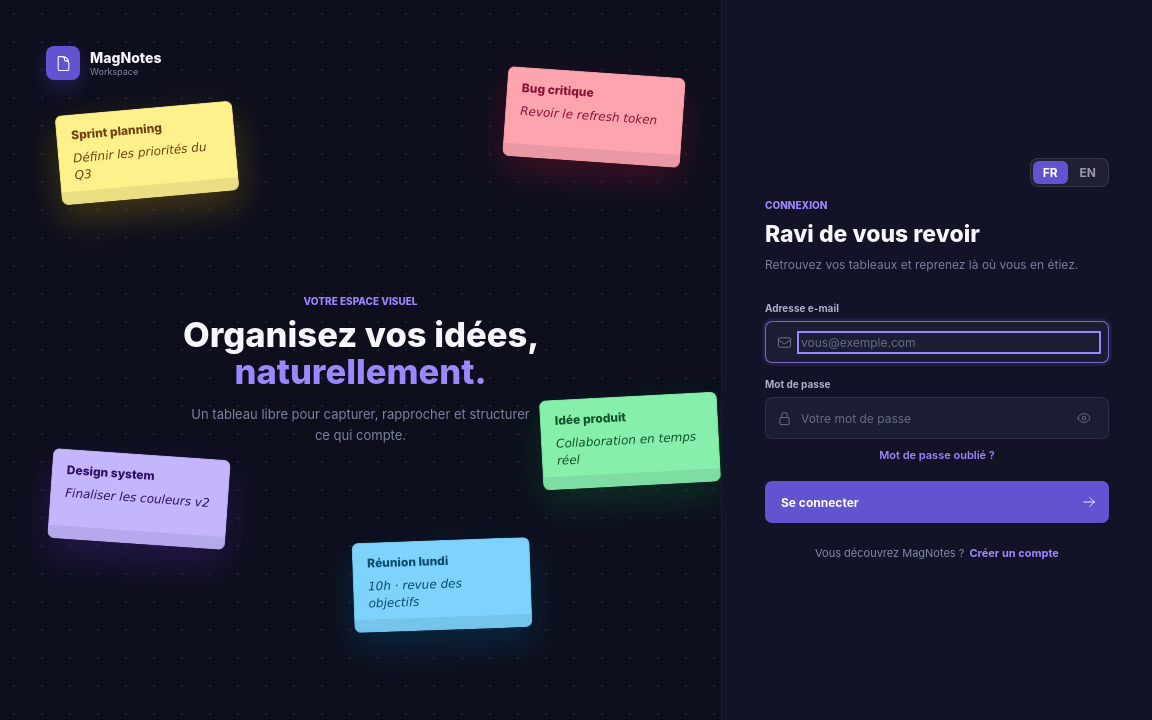
Scenario: LoginForm analytics › does not report a registration milestone when the API rejects it
The width and height of the screenshot is (1152, 720).
Click the button "Créer un compte". click: (1014, 554)
box: [969,546,1059,562]
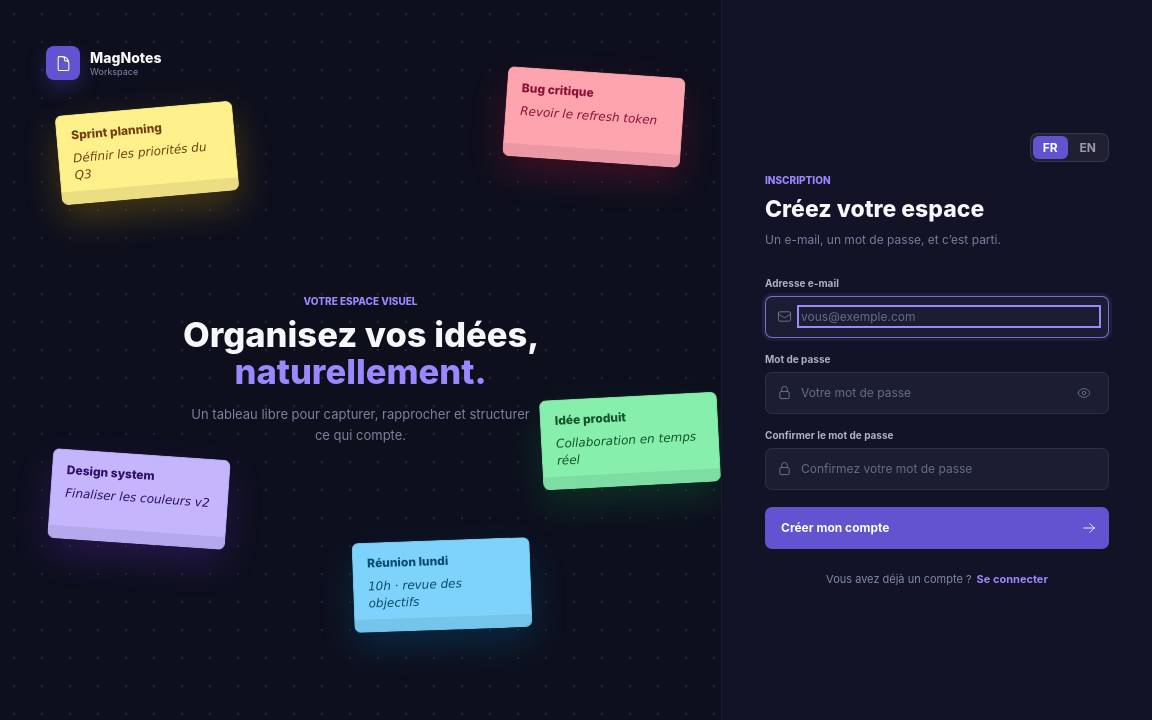
Type "user@example.com" into the field with id "email". click: (949, 317)
box: [801,310,1097,324]
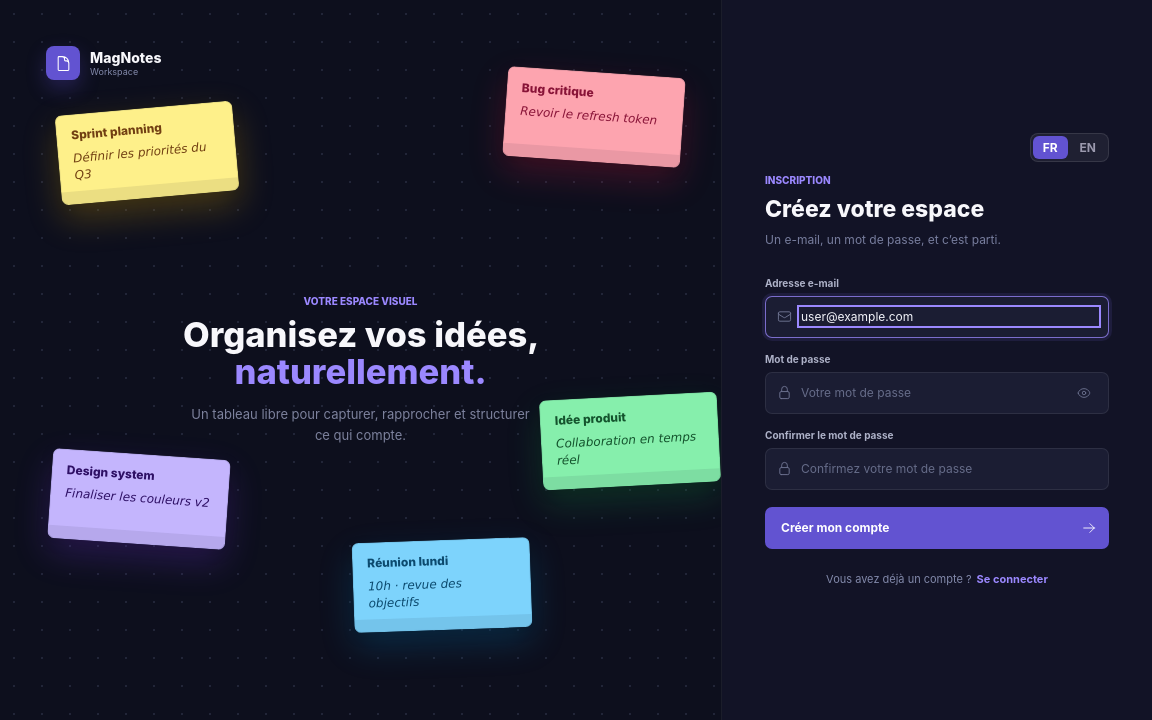
Type "password-123" into the password field labelled "Mot de passe". click: (932, 393)
box: [801,386,1062,400]
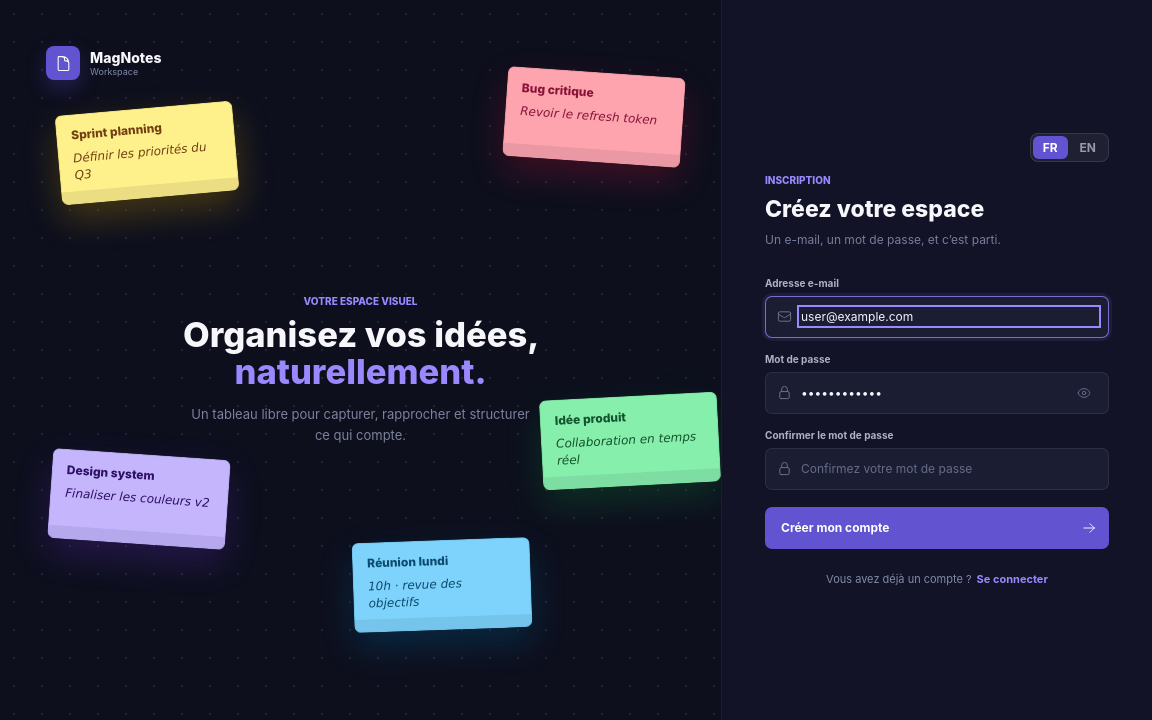
Type "password-123" into the password field with id "confirm-password". click: (949, 469)
box: [801,462,1097,476]
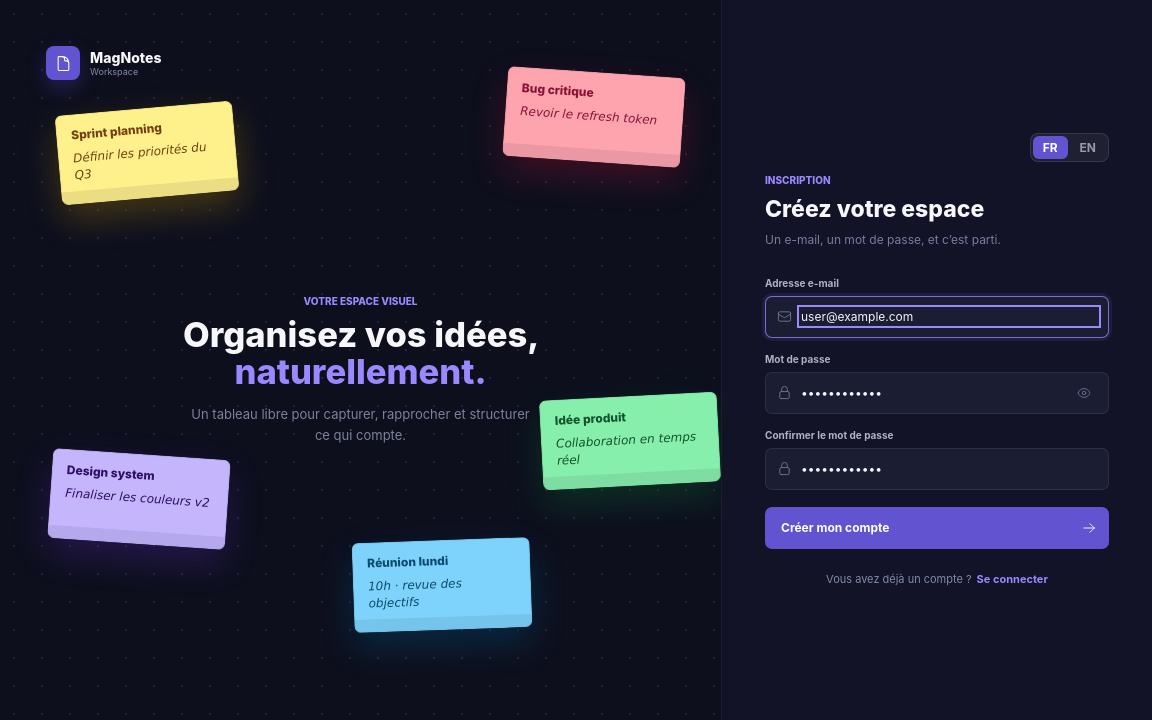
Click the button "Créer mon compte". click: (835, 528)
box: [765,507,1109,549]
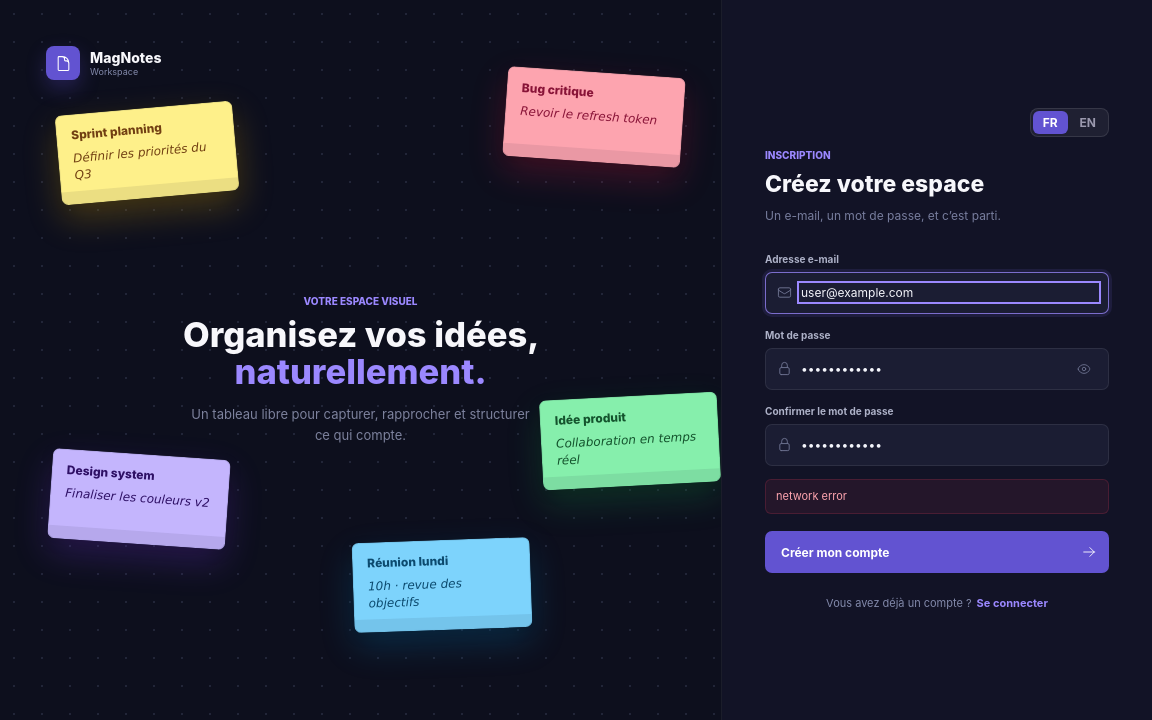
Check: the message "network error" is shown, box [765,479,1109,514]
